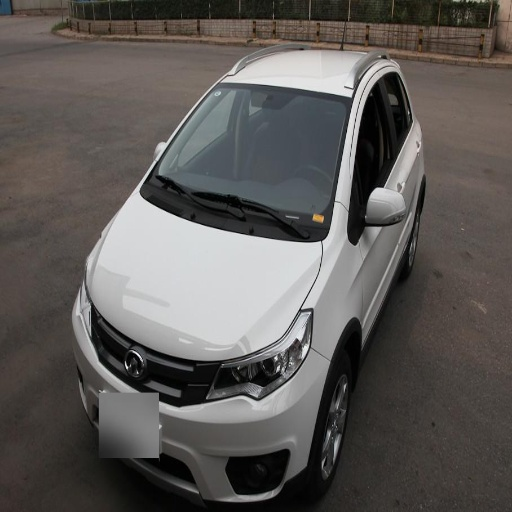front_bumper: (81, 319, 328, 510)
front_glass: (147, 86, 351, 238)
front_left_door: (350, 70, 401, 310)
